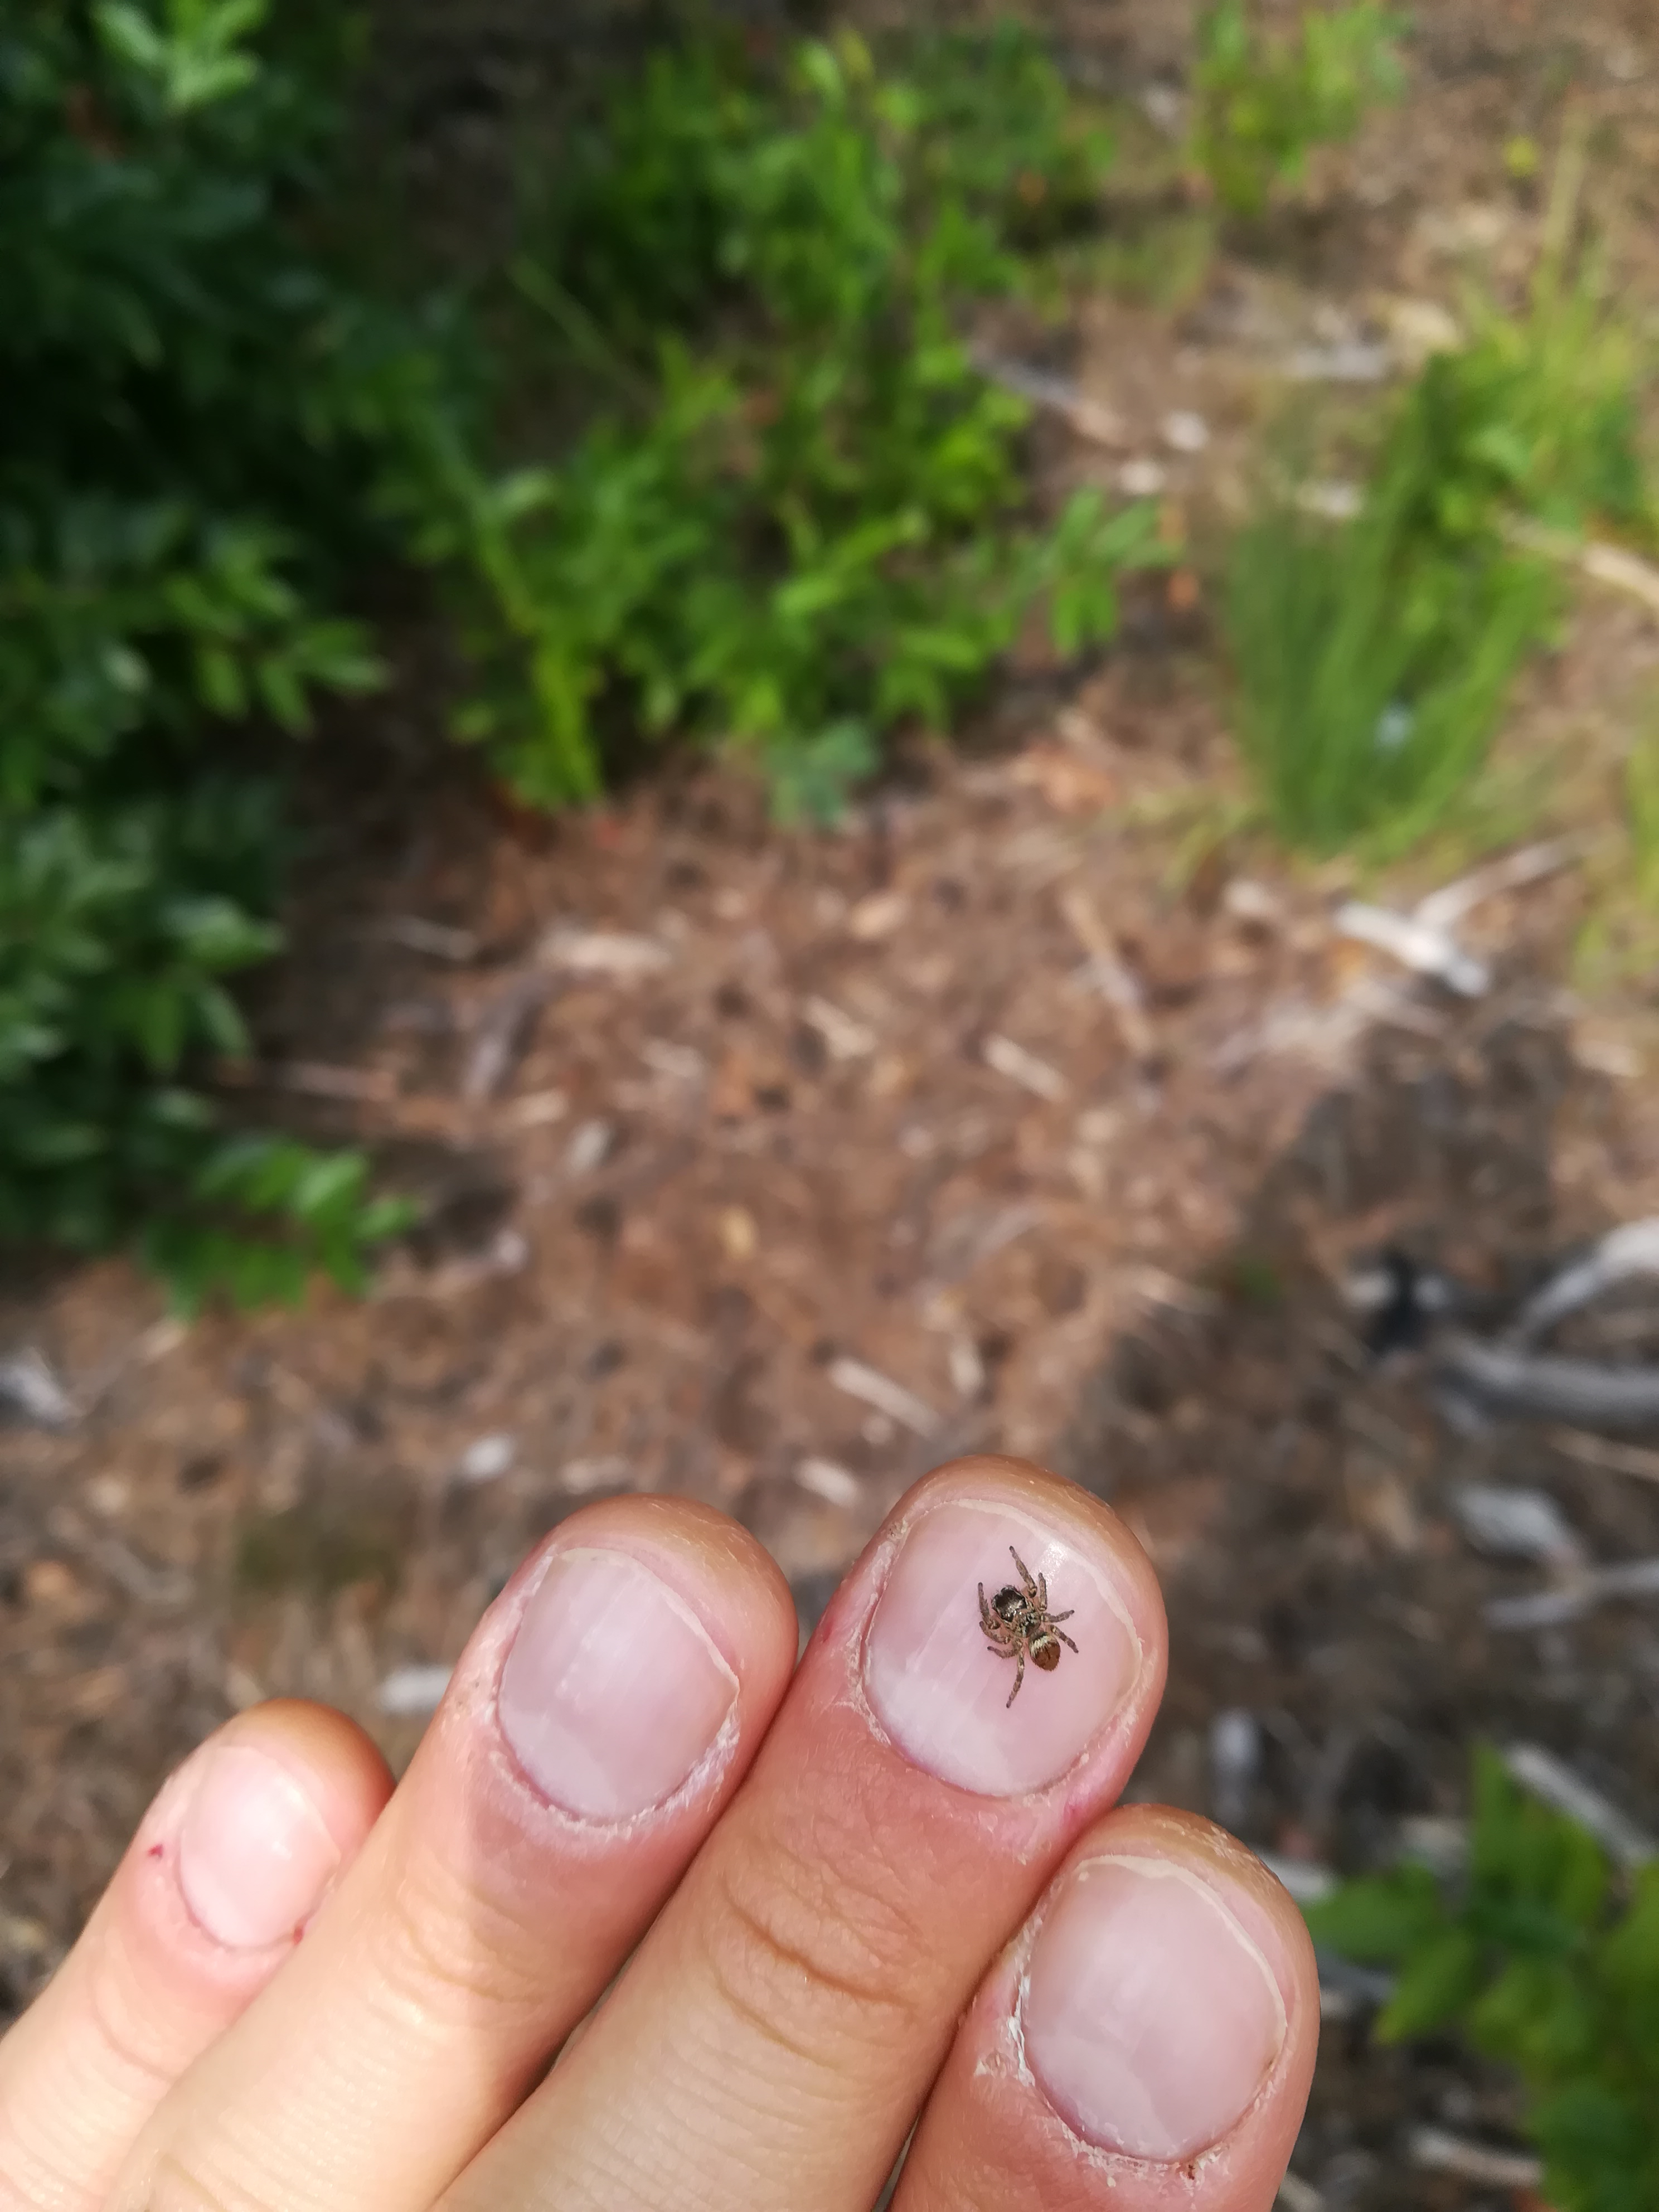spider: (939, 1529, 1114, 1730)
